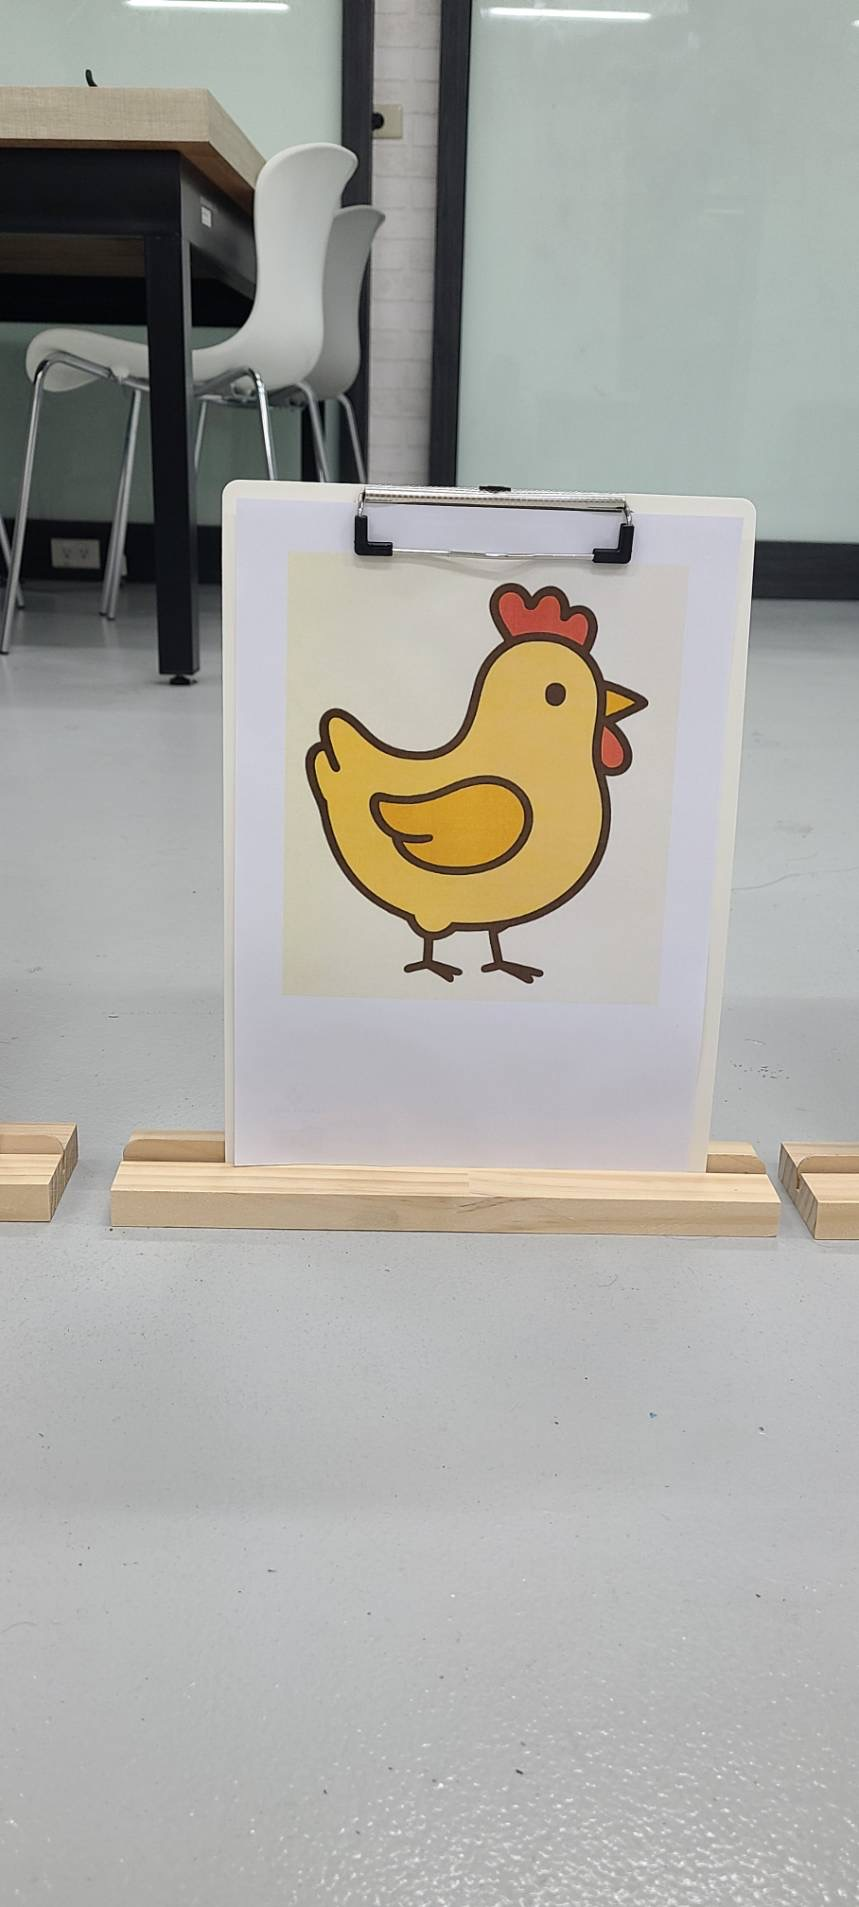chick: (304, 579, 651, 990)
